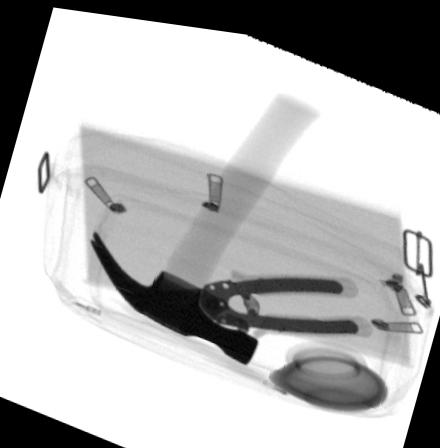Hammer: (88, 84, 320, 356)
Pliers: (151, 261, 373, 335)
